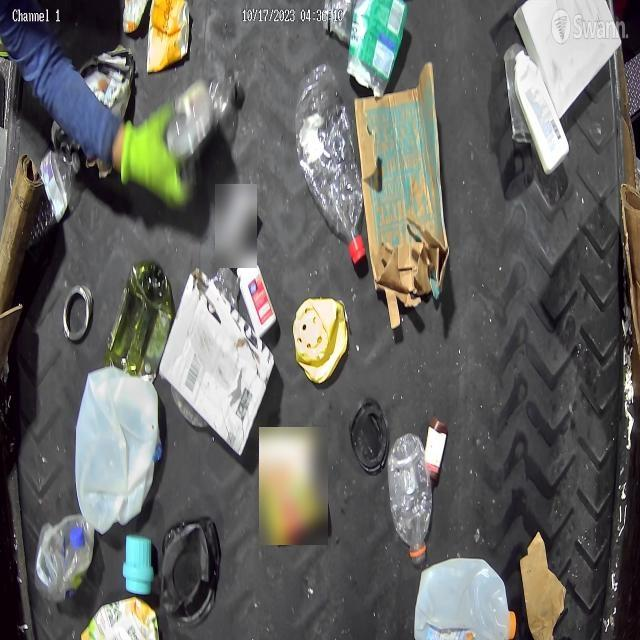milk_jug: (74, 369, 162, 536), (414, 557, 514, 640)
plastic_bottle: (294, 64, 366, 260), (386, 431, 434, 570), (166, 75, 240, 163)
